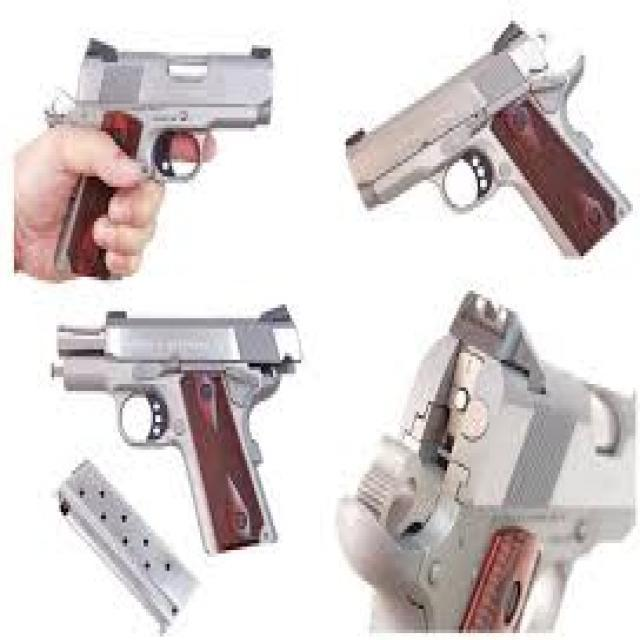semi automatic: (28, 295, 320, 636)
